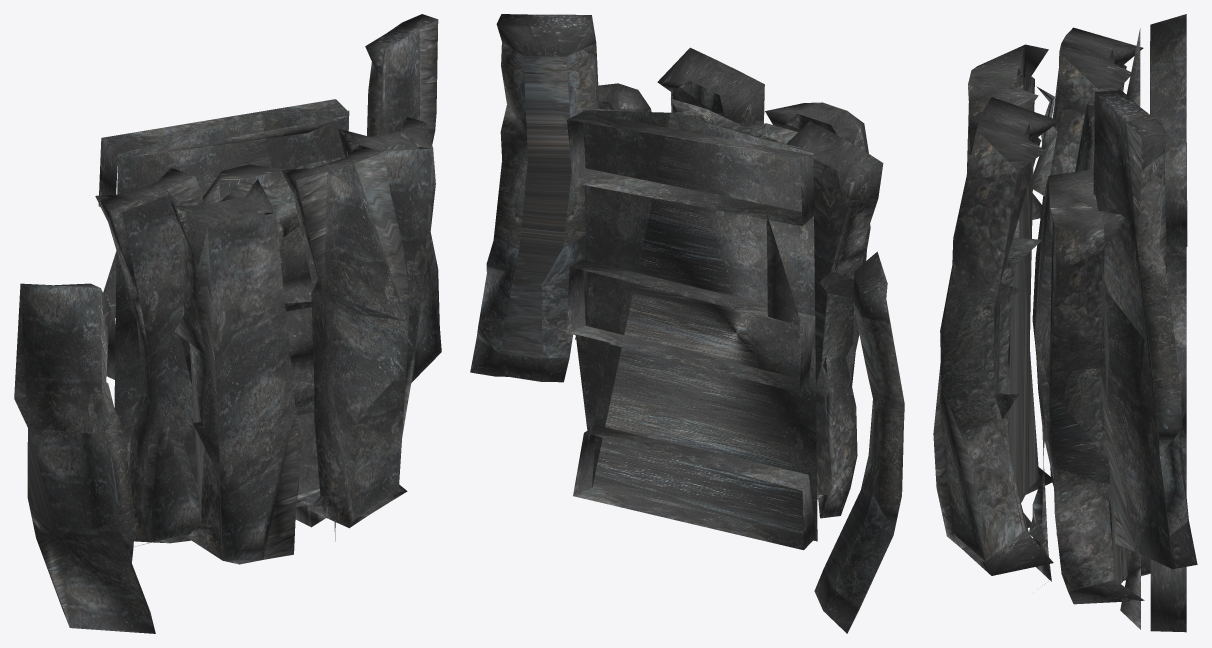
Rendered from p_glo_bomb_stack_d_LOD2.obj.
3 views of the same model, side by side, from view 1: azimuth 30°, elevation 25°; view 2: azimuth 150°, elevation 25°; view 3: azimuth 270°, elevation 25° (orthographic). The views are drawn at different scales.
Parts seen in each view (by area): view 1: metal_charred; view 2: metal_charred; view 3: metal_charred.
Boxes of the visible parts, x1=… form: metal_charred: x1=14, y1=14, x2=441, y2=633; metal_charred: x1=470, y1=14, x2=904, y2=633; metal_charred: x1=933, y1=14, x2=1197, y2=632.
Bounding box in the file's own units: 233 × 275 × 102.
Materials: 1 (1 with a texture image).
